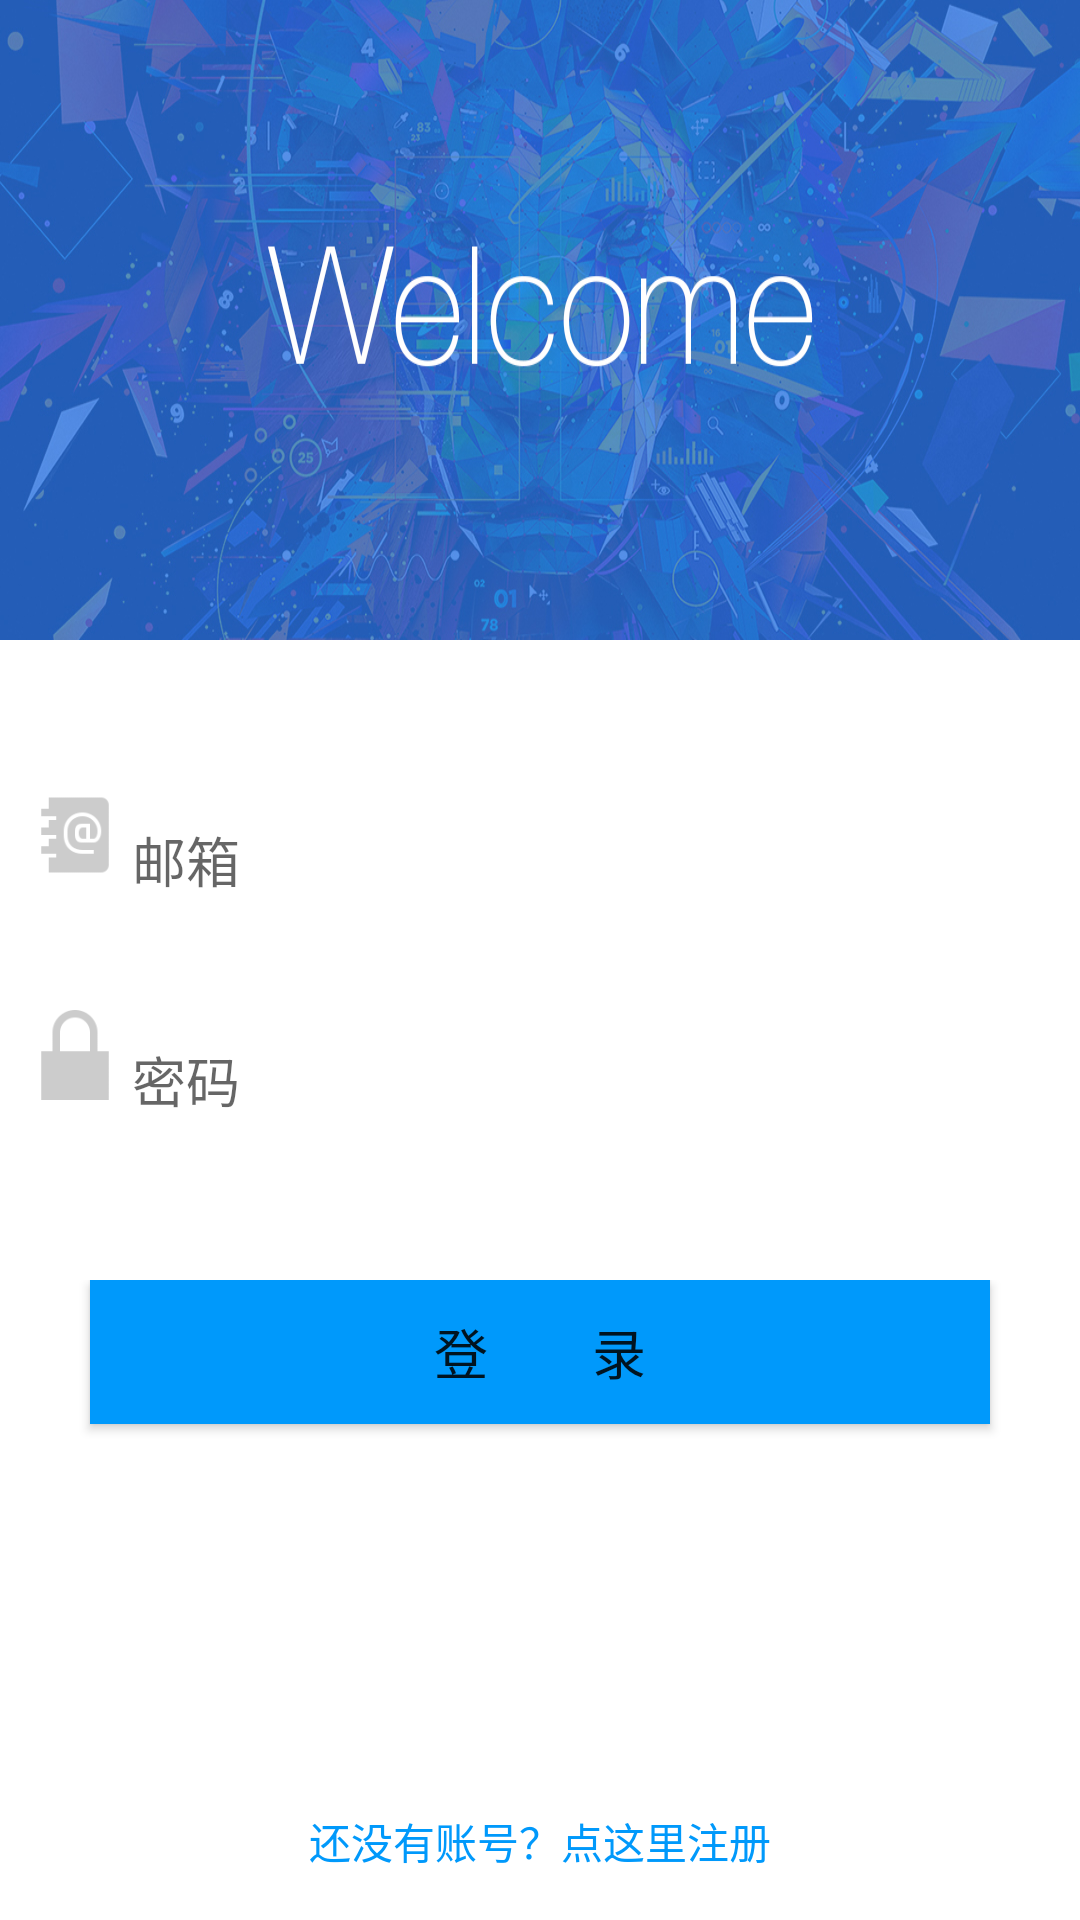

Icons on this 1080px x 1920px Android screen, each with the point to tap as [x,y]:
lock: [75,1055]
